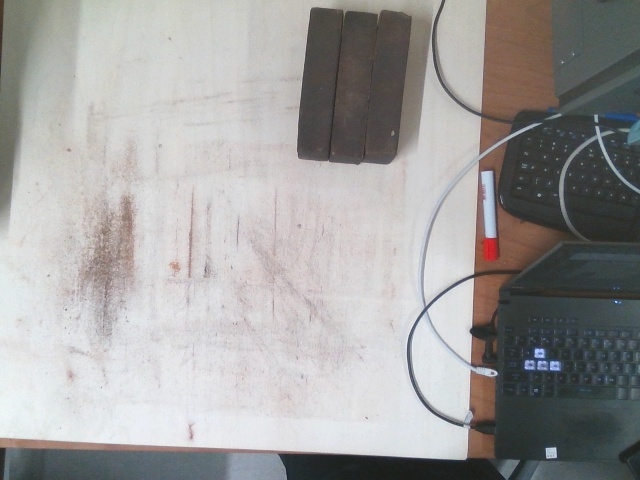brick-side: (295, 10, 341, 152), (329, 13, 375, 155), (365, 12, 411, 154)
